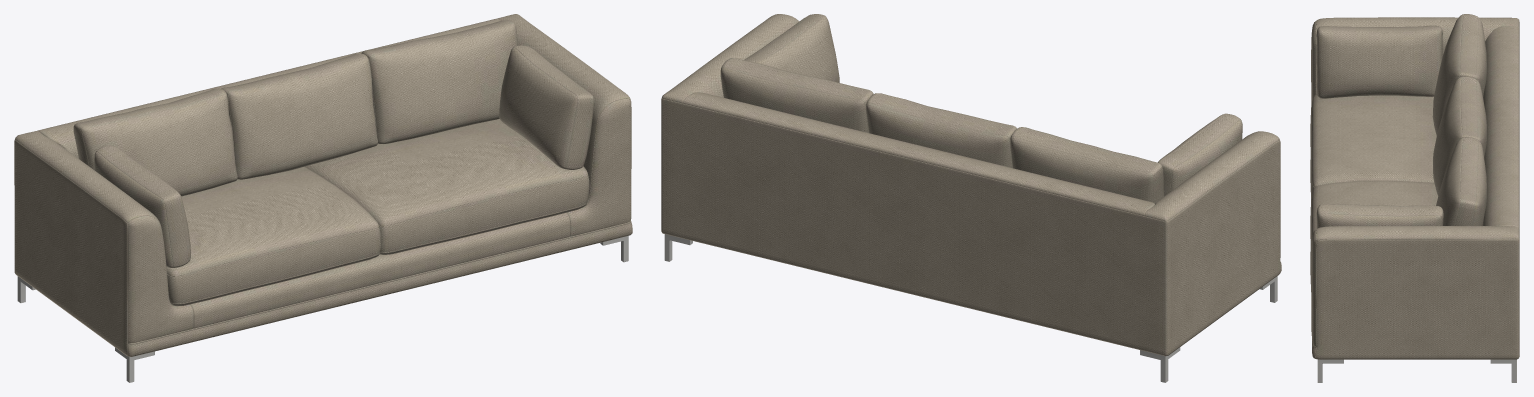
Rendered from B07HYY8ZGY.glb.
3 renders of one model, left to right at view 1: azimuth 30°, elevation 25°; view 2: azimuth 150°, elevation 25°; view 3: azimuth 270°, elevation 25°, orthographic. The views are drawn at different scales.
Parts seen in each view (by area): view 1: RootNode; view 2: RootNode; view 3: RootNode.
Boxes of the visible parts, <box> form: RootNode: <box>14,14,632,382</box>; RootNode: <box>661,14,1281,382</box>; RootNode: <box>1310,14,1519,382</box>.
Bounding box in the file's own units: 2.42 × 0.8673 × 0.9688.
Materials: 1 (1 with a texture image).
